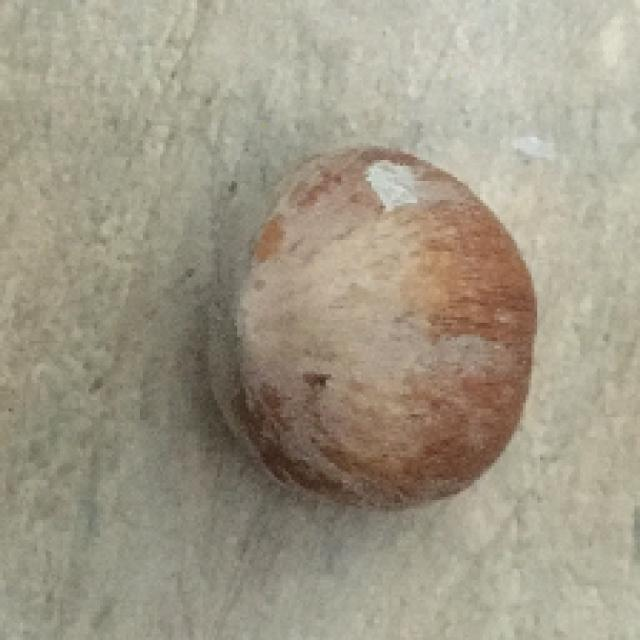QualityHazelnut: (200, 137, 541, 513)
